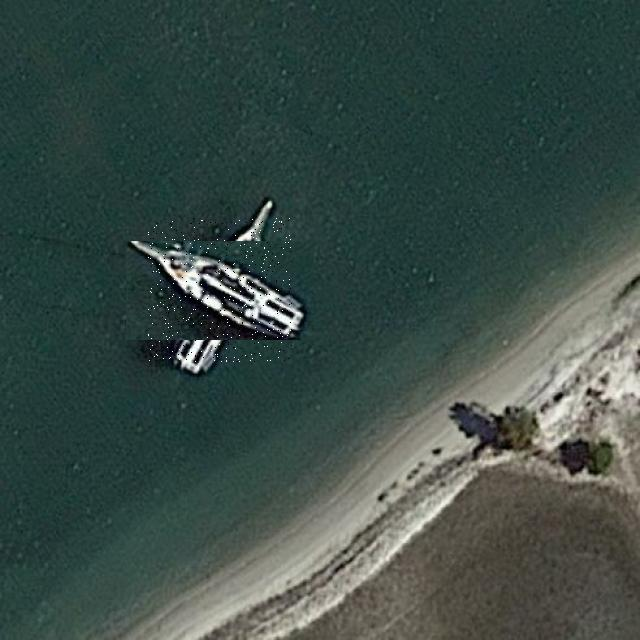boat: (148, 218, 292, 362)
